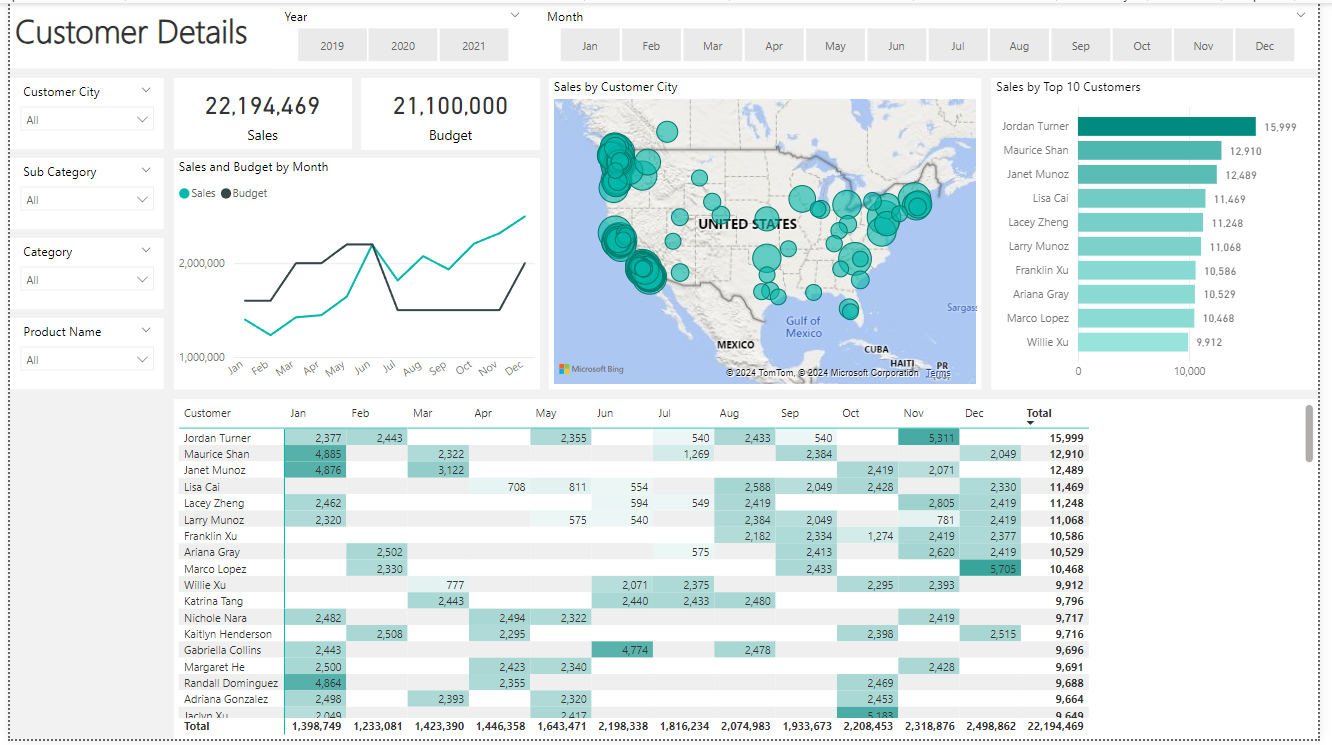

This screenshot's page, from the dashboard's own definition file:
{"tool":"powerbi","page":{"name":"customer","canvas":[1280,720],"ordinal":1},"visuals":[{"type":"textbox","box":[0,0,1280,64],"z":0},{"type":"slicer","fields":{"Values":["DIM_Calendar.Year"]},"box":[256,0,256,64],"z":1000},{"type":"slicer","fields":{"Values":["DIM_Calendar.MonthShort"]},"box":[512,0,768,64],"z":2000},{"type":"slicer","fields":{"Values":["DIM_Customers.Customer City"]},"box":[0,73,150.5,69.3],"z":3000},{"type":"slicer","fields":{"Values":["DIM_Products.Product Category"]},"box":[0,229.9,150.5,69.3],"z":4000},{"type":"slicer","fields":{"Values":["DIM_Products.Product Name"]},"box":[0,308.4,150.5,69.3],"z":5000},{"type":"slicer","fields":{"Values":["DIM_Products.Sub Category"]},"box":[0,151.4,150.5,69.3],"z":6000},{"type":"lineChart","fields":{"Category":["DIM_Calendar.MonthShort"],"Y":["Analysis Metrics.Sales","Analysis Metrics.Budget"]},"box":[159.8,151.8,358.7,226.4],"z":7000},{"type":"card","fields":{"Values":["Analysis Metrics.Sales"]},"box":[160.7,72.8,174,69.2],"z":8000},{"type":"map","fields":{"Category":["DIM_Customers.Customer City"],"Size":["Analysis Metrics.Sales"]},"box":[527.3,72.8,423.5,304.5],"z":9000},{"type":"card","fields":{"Values":["Analysis Metrics.Budget"]},"box":[343.6,72.8,174.9,70.1],"z":10000},{"type":"pivotTable","fields":{"Rows":["DIM_Customers.Full Name"],"Columns":["DIM_Calendar.MonthShort"],"Values":["Analysis Metrics.Sales"]},"box":[159.8,387.1,1120.4,332.9],"z":11000},{"type":"barChart","title":"Sales by Top 10 Customers","fields":{"Category":["DIM_Customers.Full Name"],"Y":["Analysis Metrics.Sales"]},"box":[959.7,72.8,320.5,304.5],"z":12000}]}

Visuals, with their boxes in screenshot pixels (x1, y1, x2, y2), scaled from the page's 1280x720 canvas onto the 1332x745 screenshot:
textbox: box(0, 0, 1331, 66)
slicer - DIM_Calendar.Year: box(266, 0, 533, 66)
slicer - DIM_Calendar.MonthShort: box(533, 0, 1331, 66)
slicer - DIM_Customers.Customer City: box(0, 76, 157, 147)
slicer - DIM_Products.Product Category: box(0, 238, 157, 310)
slicer - DIM_Products.Product Name: box(0, 319, 157, 391)
slicer - DIM_Products.Sub Category: box(0, 157, 157, 228)
lineChart - DIM_Calendar.MonthShort x Analysis Metrics.Sales: box(166, 157, 540, 391)
card - Analysis Metrics.Sales: box(167, 75, 348, 147)
map - DIM_Customers.Customer City x Analysis Metrics.Sales: box(549, 75, 989, 390)
card - Analysis Metrics.Budget: box(358, 75, 540, 148)
pivotTable - DIM_Customers.Full Name x DIM_Calendar.MonthShort: box(166, 401, 1331, 744)
"Sales by Top 10 Customers" barChart: box(999, 75, 1331, 390)
